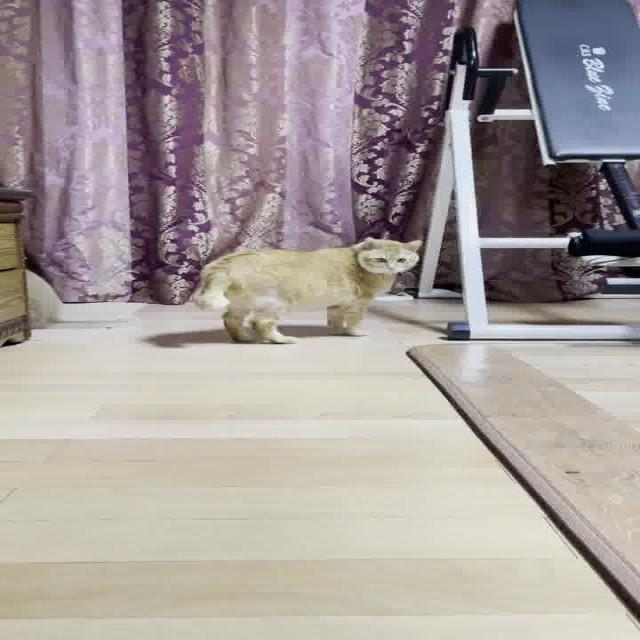cat: (183, 234, 430, 348)
